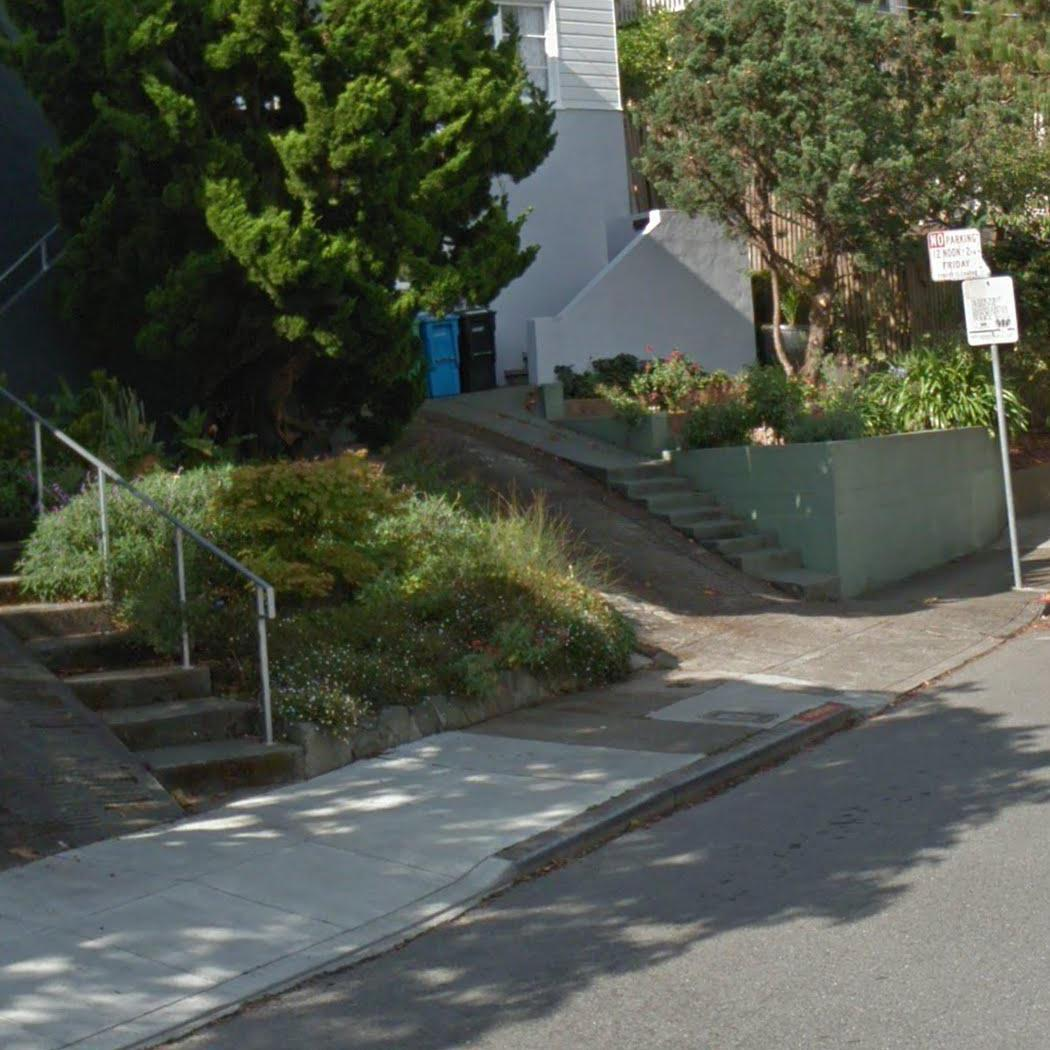No Parking: (926, 225, 988, 285)
